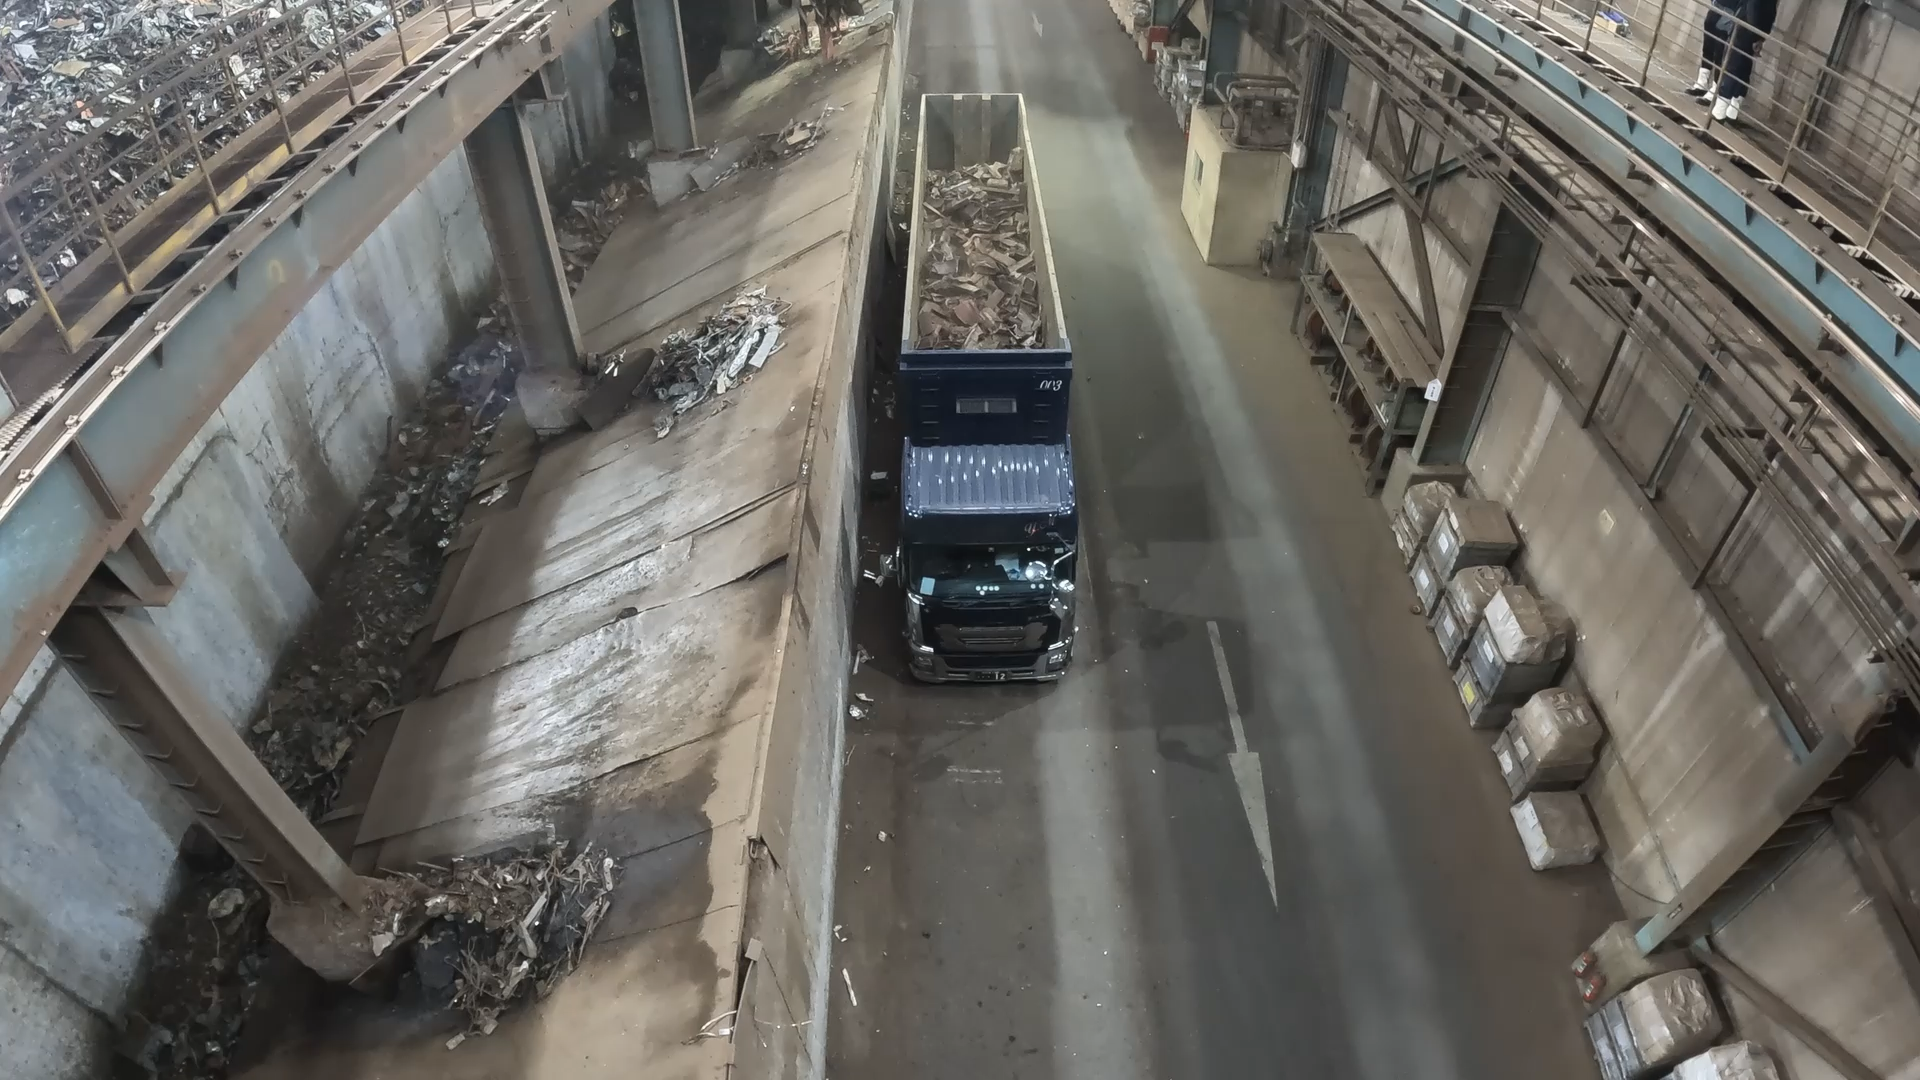truck: (905, 92, 1065, 352)
